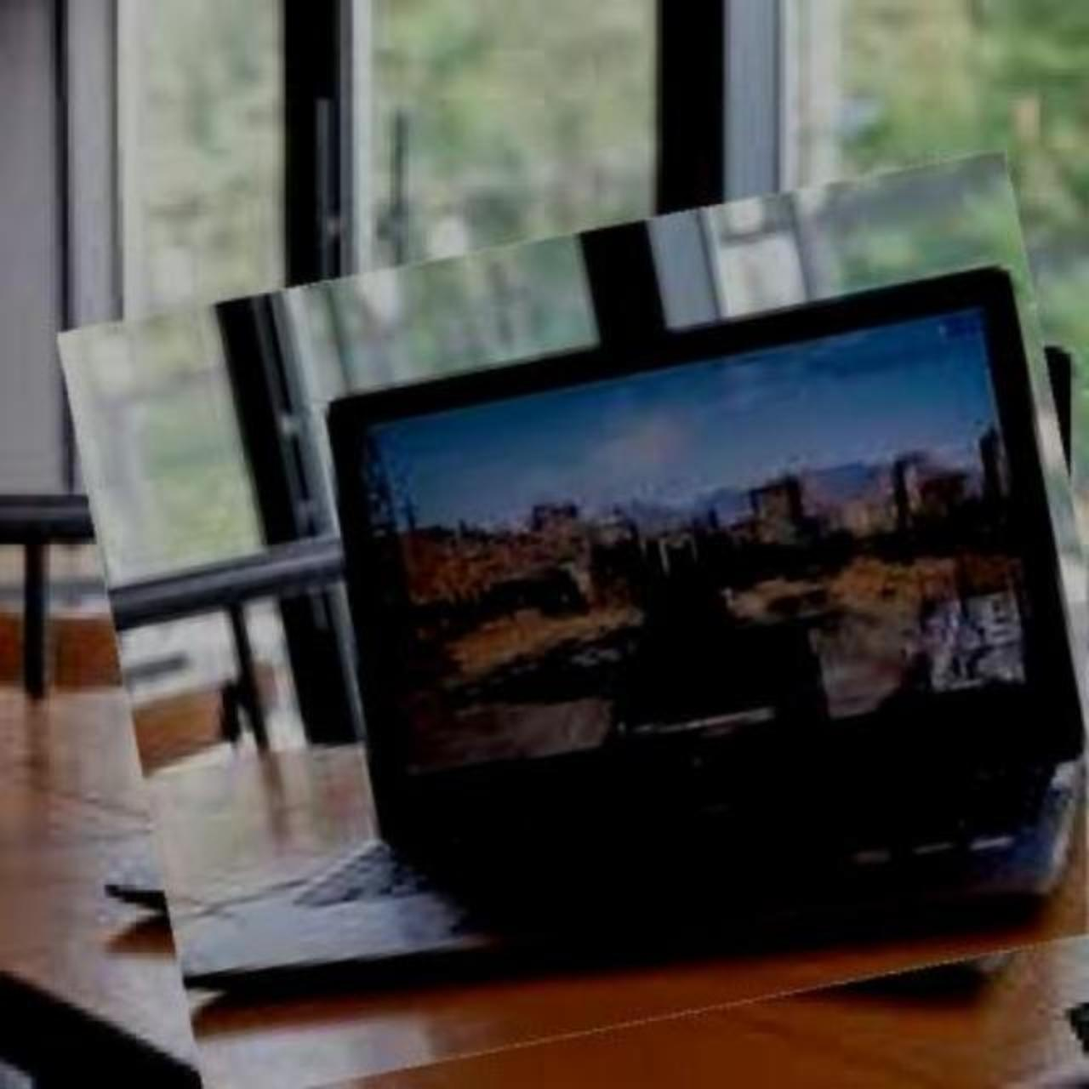laptop: (89, 192, 1088, 1060)
